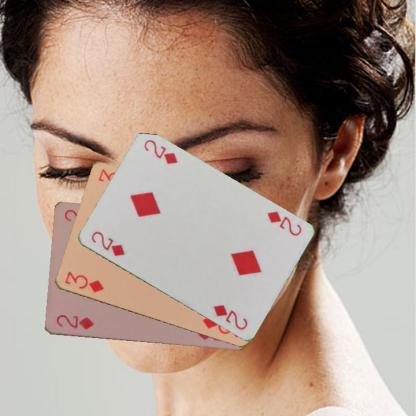2d: (264, 208, 303, 238), (88, 228, 126, 258), (54, 312, 95, 331)
3d: (62, 269, 105, 294)
